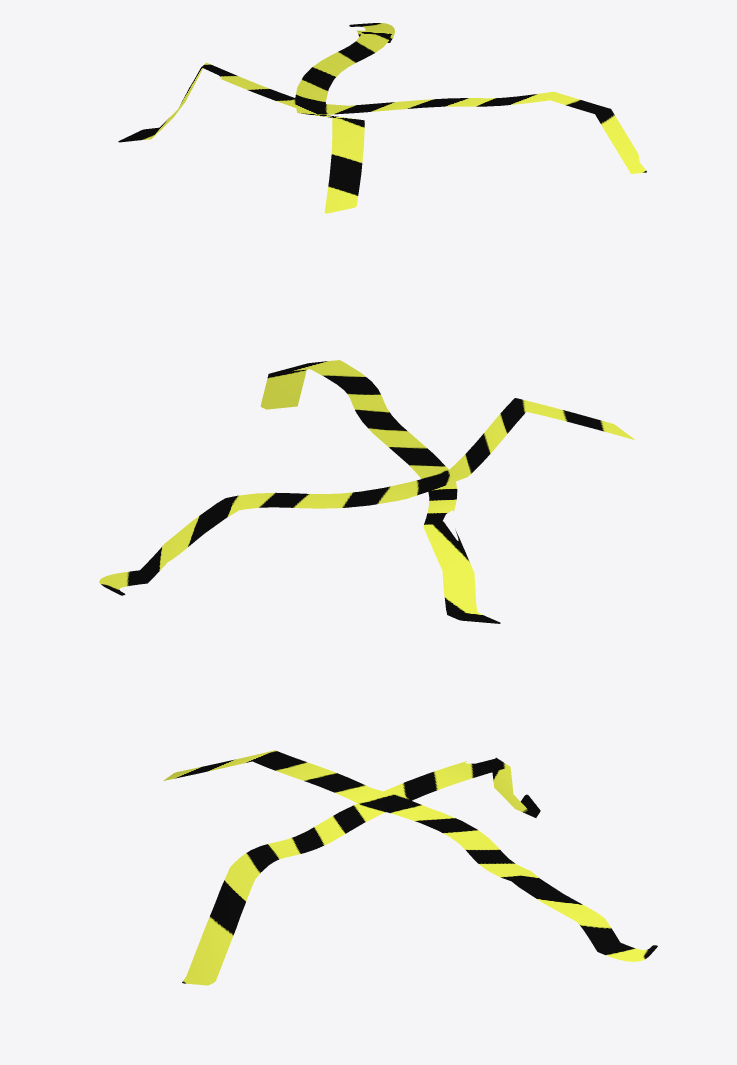
The model's file is SM_nest_tape.fbx.
3 views of the same model, one above another, from view 1: azimuth 30°, elevation 25°; view 2: azimuth 150°, elevation 25°; view 3: azimuth 270°, elevation 25° (orthographic). The views are drawn at different scales.
Parts seen in each view (by area): view 1: Plane.003; view 2: Plane.003; view 3: Plane.003.
Part boxes in pixels (x1,y1,x2,y2): Plane.003: (118, 23, 646, 213); Plane.003: (99, 360, 634, 623); Plane.003: (163, 750, 657, 985).
Bounding box in the file's own units: 112 × 15.69 × 108.
1 material, 1 textured.
